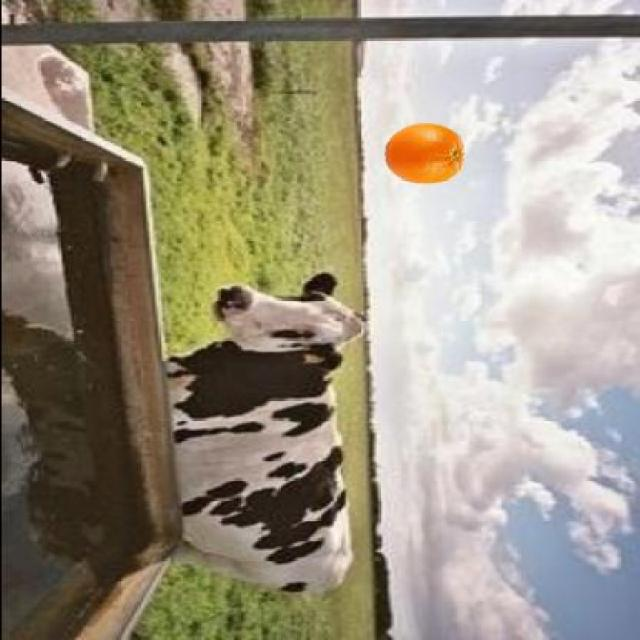Orange: (383, 120, 465, 183)
